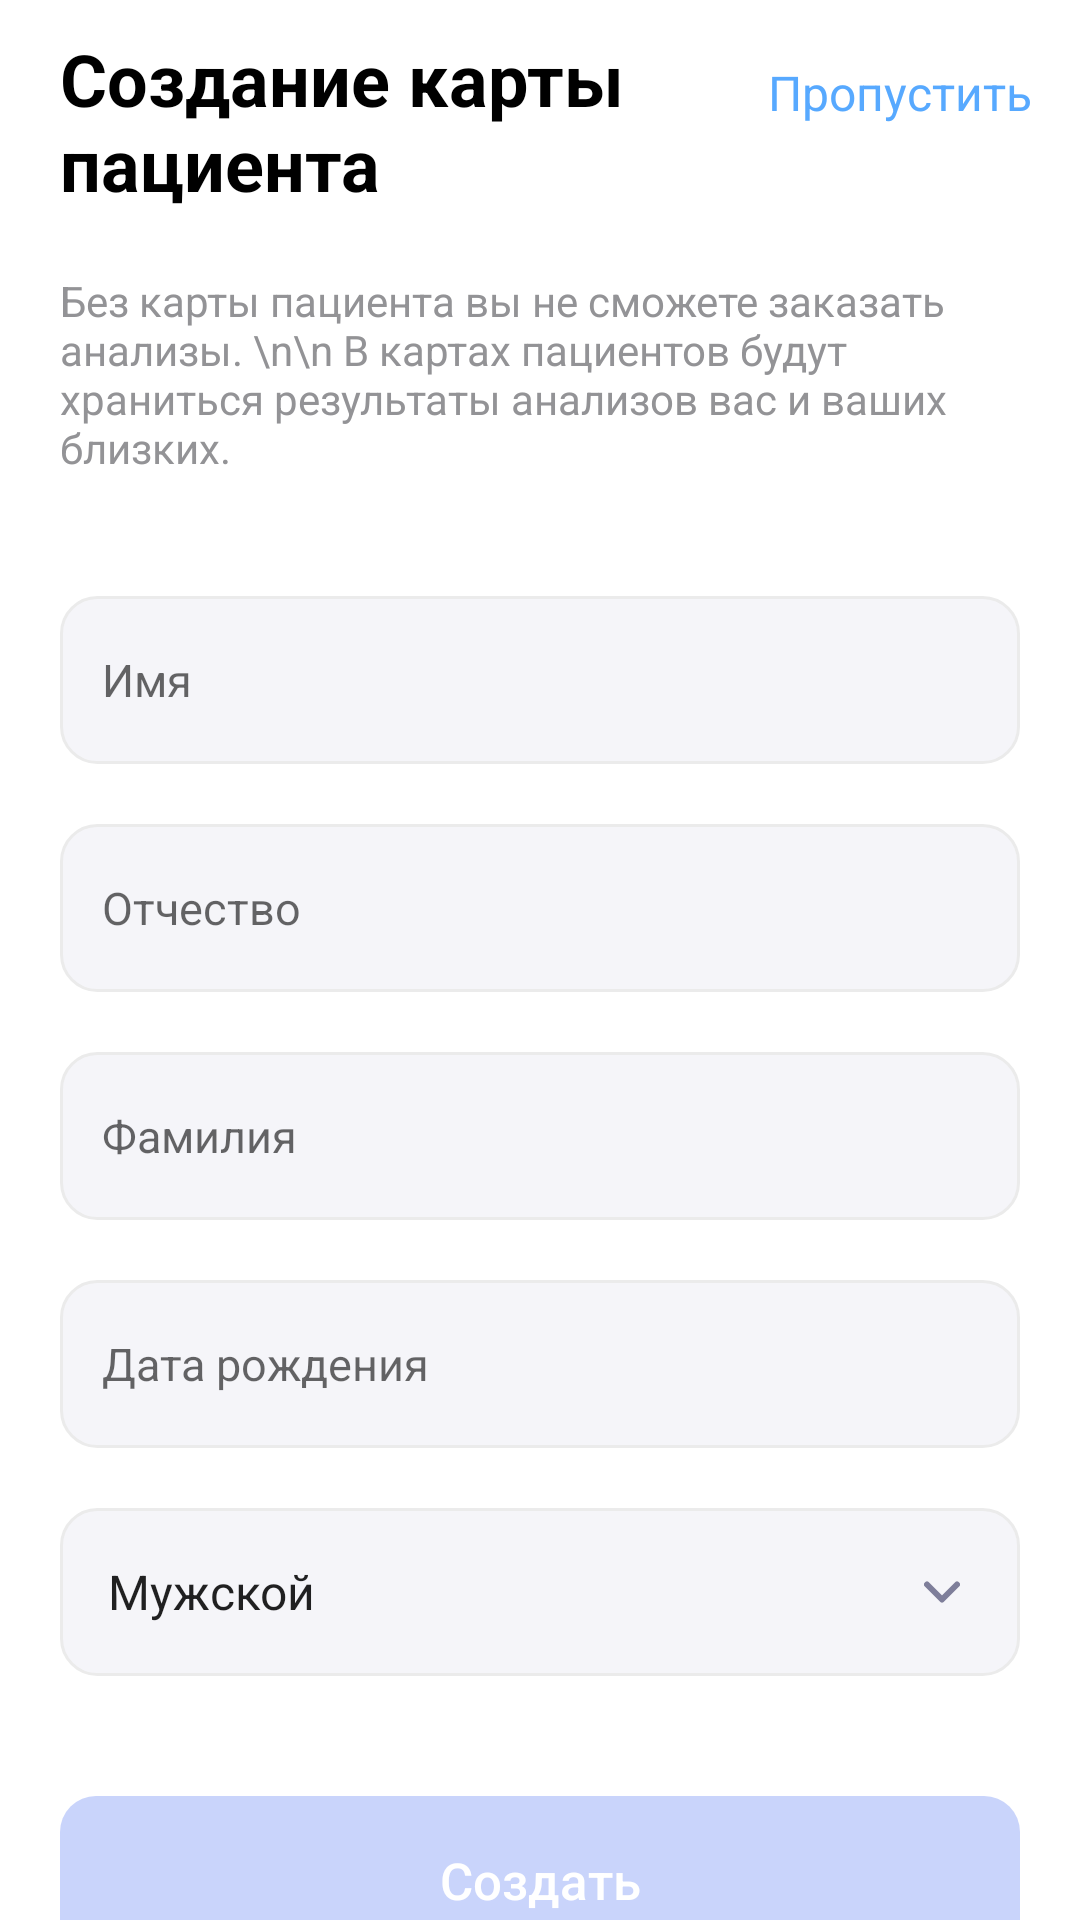

Named icons in this screenshot (1080px x 1920px) and their centers, (x=x, y=y):
drop down: (x=942, y=1592)
